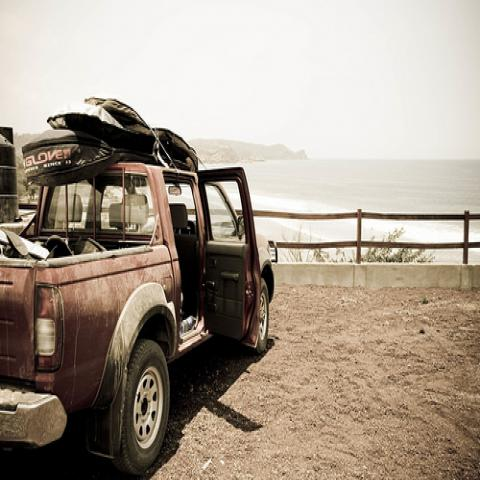truck: (1, 97, 280, 466)
